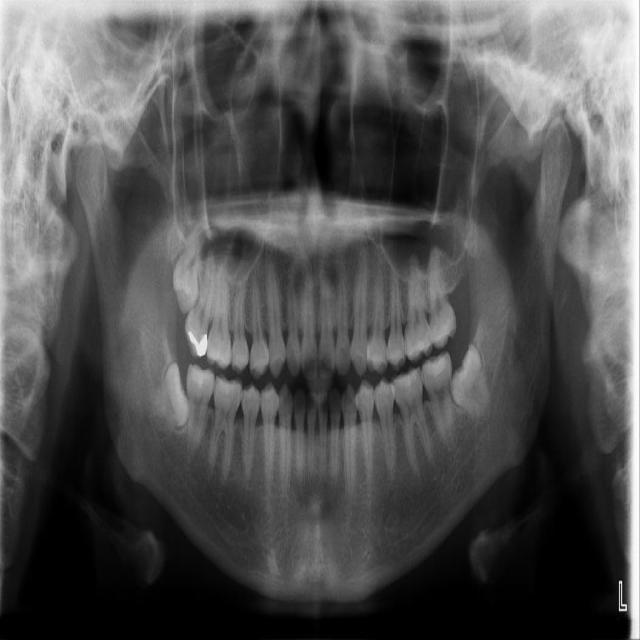3M ESPE Implant: (170, 219, 207, 316)
52: (184, 305, 210, 358)
73: (620, 622, 628, 632)
BioHorizons Implant: (429, 246, 457, 349)
Biomet 3i Implant: (438, 342, 500, 425)
Blue Sky Bio Implant: (421, 351, 455, 451)
Caries: (181, 253, 222, 357)
Implant: (186, 363, 215, 458)
Keystone Dental Implant: (150, 363, 192, 435)
